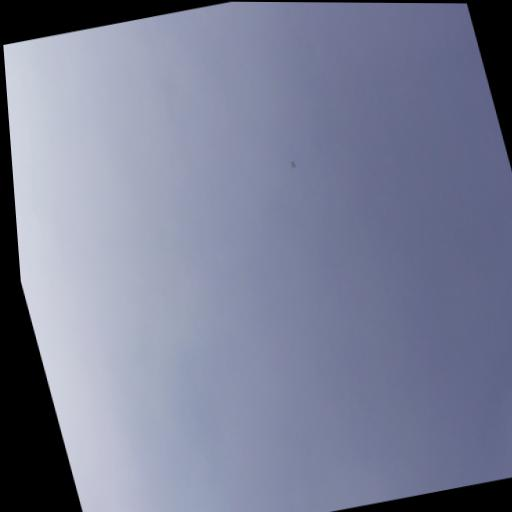drones: (289, 159, 298, 170)
